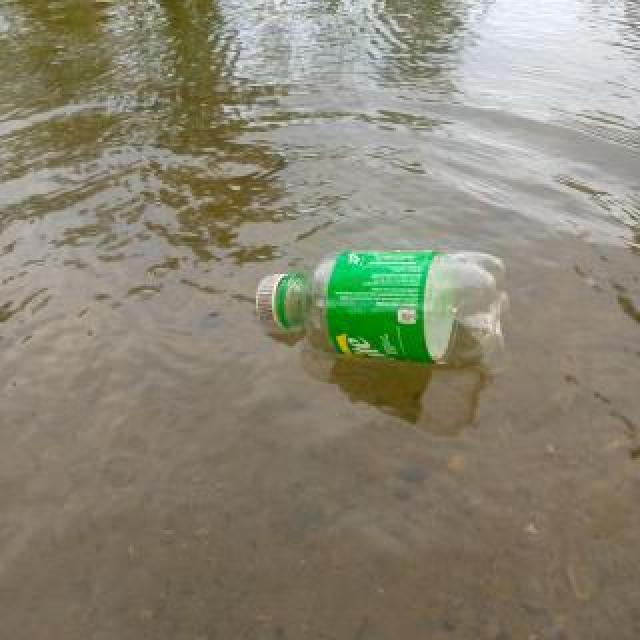bottle: (255, 246, 511, 368)
